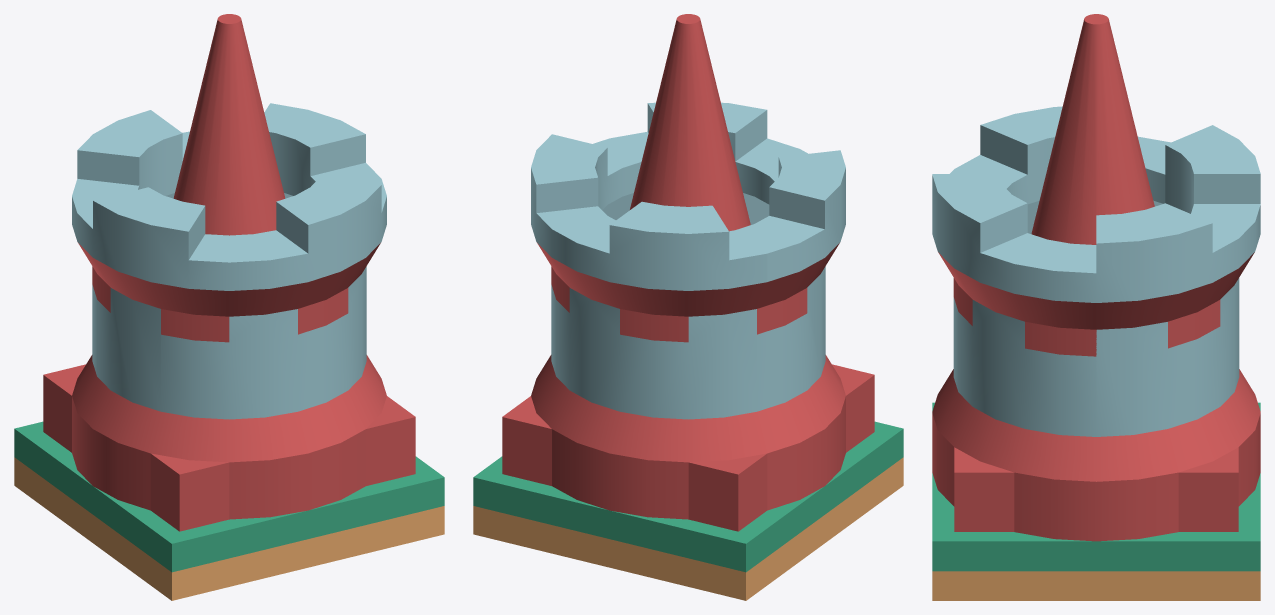
File: tile_tower_roundA.obj
The picture shows the model from 3 angles, left to right: view 1: azimuth 30°, elevation 25°; view 2: azimuth 150°, elevation 25°; view 3: azimuth 270°, elevation 25°; orthographic projection. The views are drawn at different scales.
Visible parts, largest first — view 1: towerRound_sampleB, tile; view 2: towerRound_sampleB, tile; view 3: towerRound_sampleB, tile.
Boxes of the visible parts, x1,y1,x2,y2 form: towerRound_sampleB: (43, 14, 415, 531); tile: (14, 421, 444, 600); towerRound_sampleB: (502, 14, 874, 531); tile: (473, 421, 903, 600); towerRound_sampleB: (932, 14, 1260, 541); tile: (932, 402, 1260, 600).
Size of the model in its own units: 1 by 1.72 by 1.
